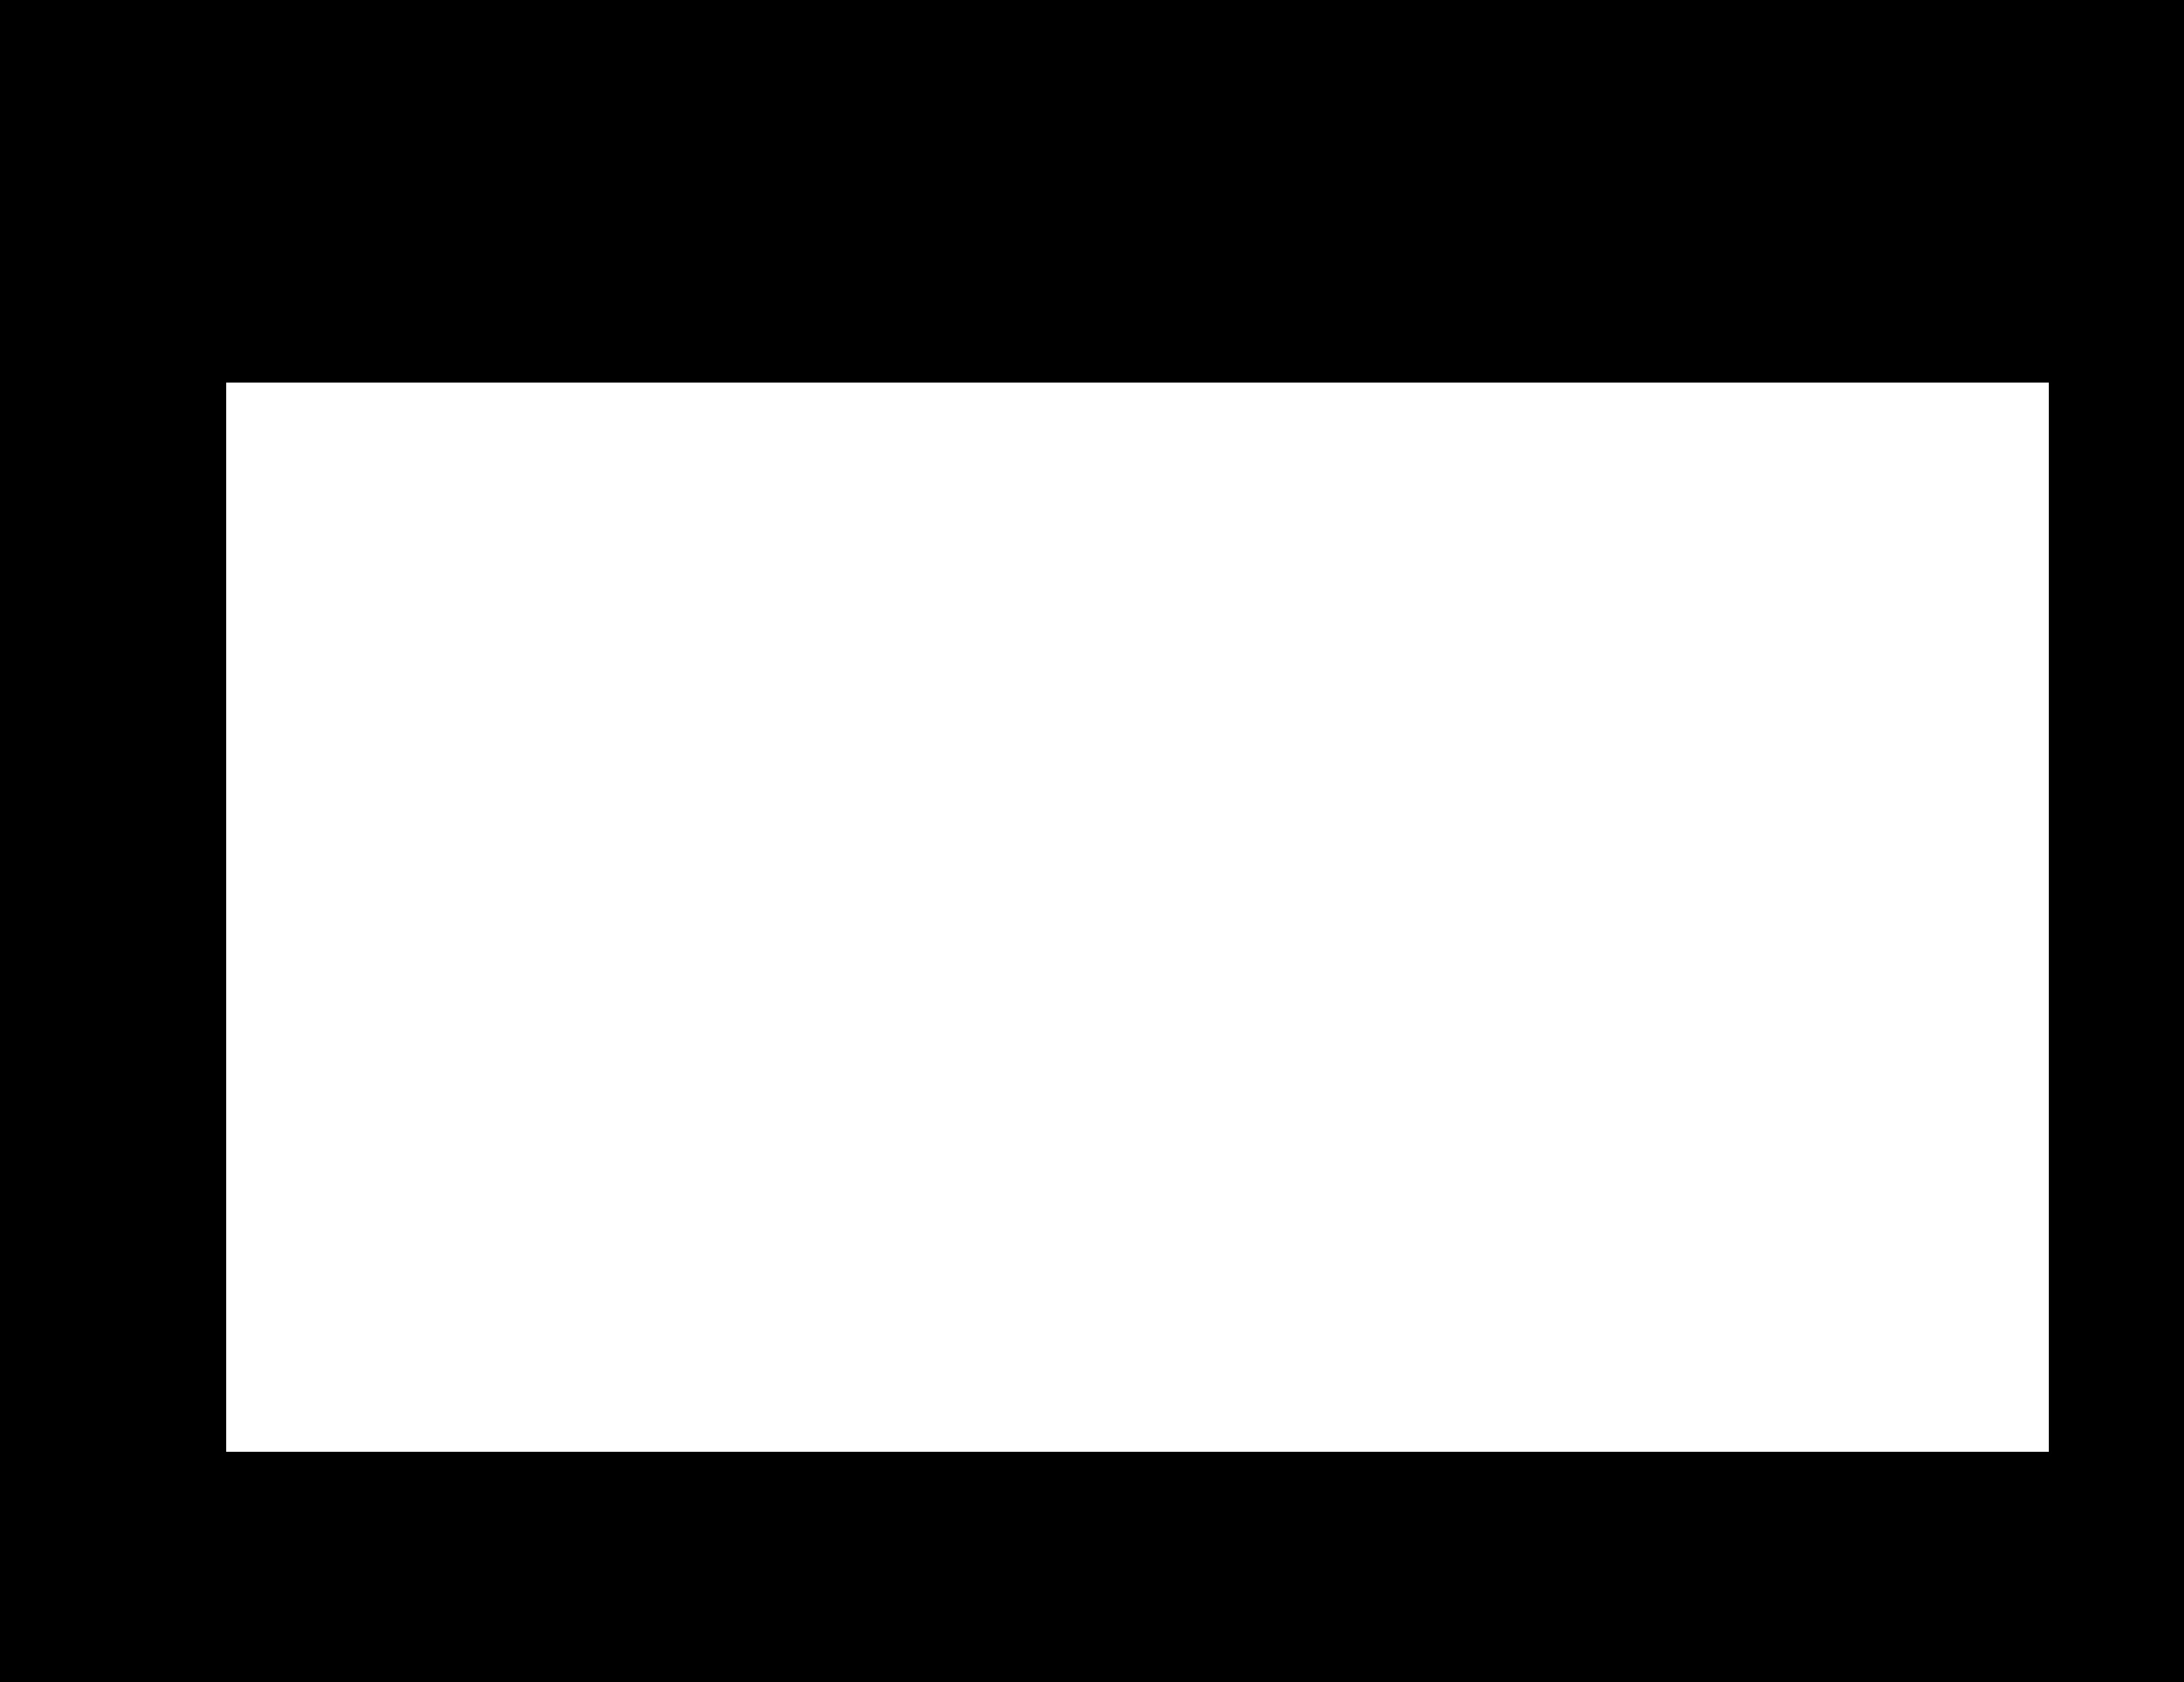table: (226, 383, 2048, 1451)
